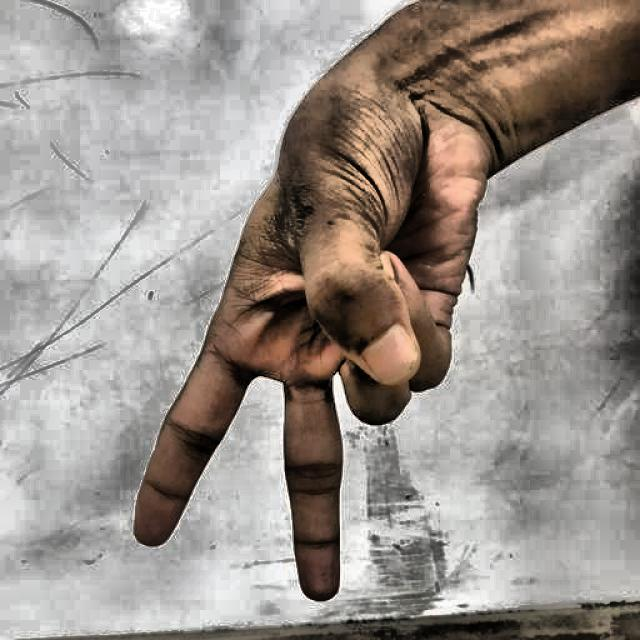Pa: (114, 48, 508, 621)
